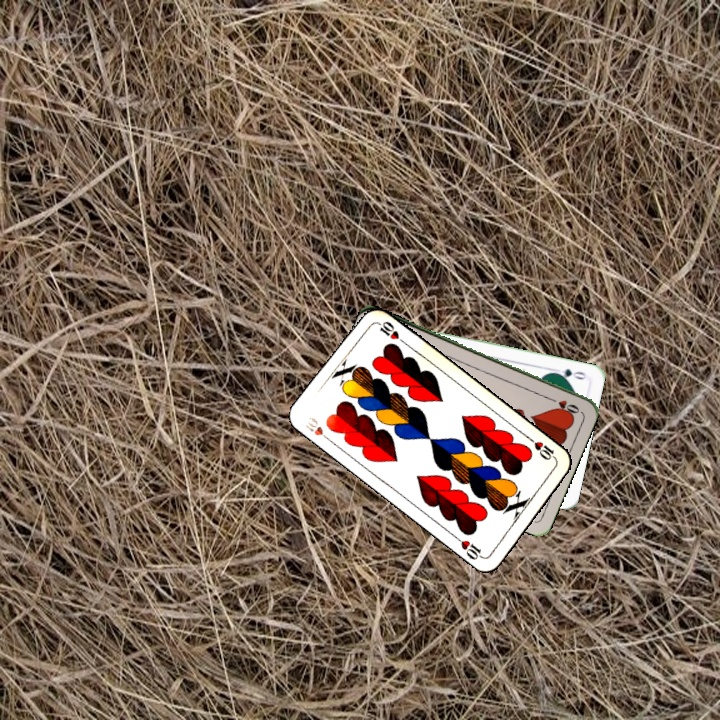GO: (548, 364, 589, 382)
H10: (301, 413, 335, 445), (525, 433, 559, 463)
HO: (544, 393, 582, 416)
